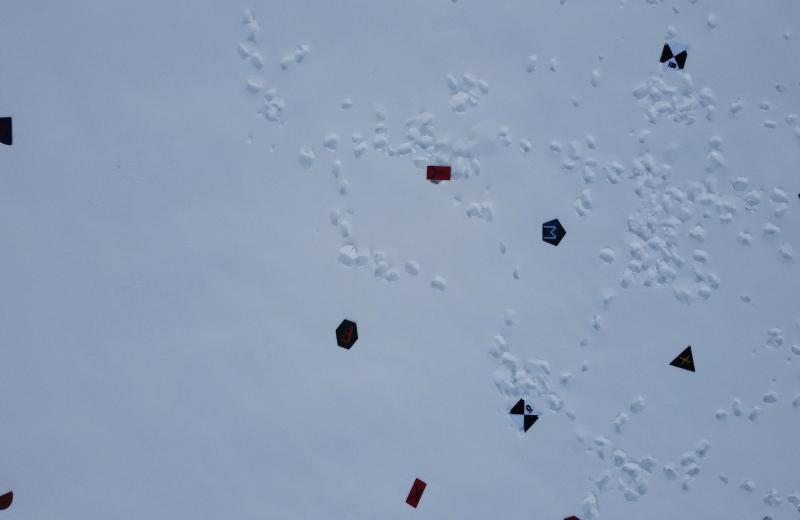Hexagon: (333, 316, 362, 352)
Pentagon: (536, 216, 569, 252)
Quarter Circle: (0, 112, 18, 149)
Rectangle: (422, 162, 456, 188), (405, 478, 428, 511)
Semi Circle: (0, 488, 15, 512)
Triangle: (669, 341, 697, 374)
